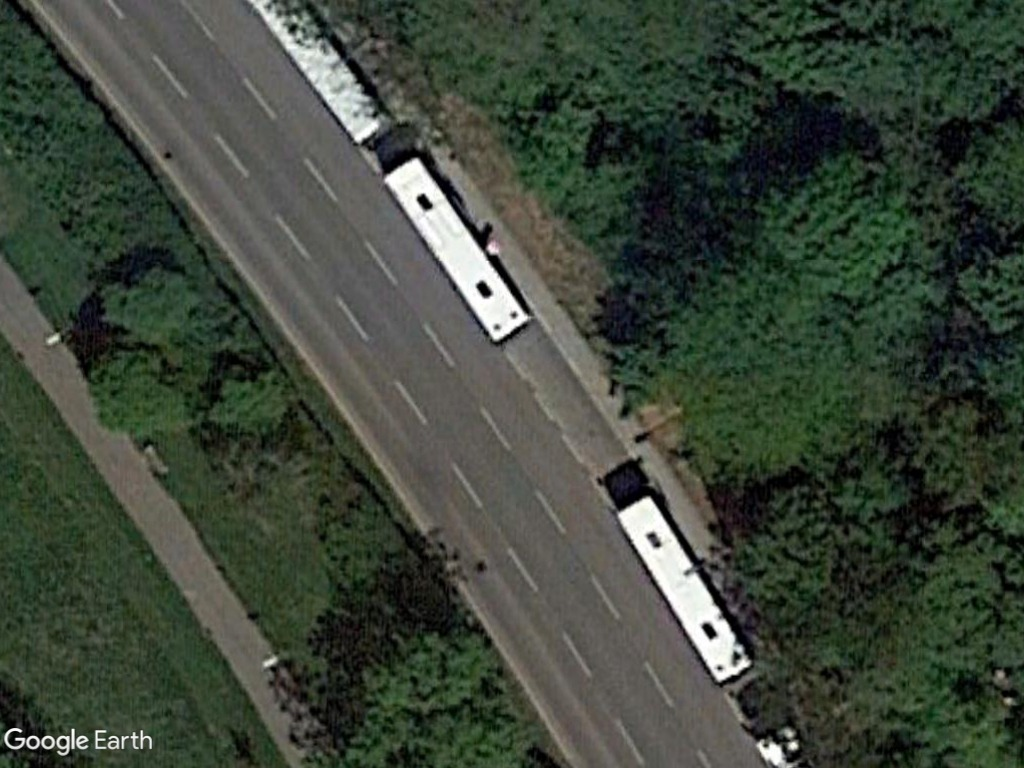bus: (377, 152, 538, 351), (609, 484, 756, 685)
